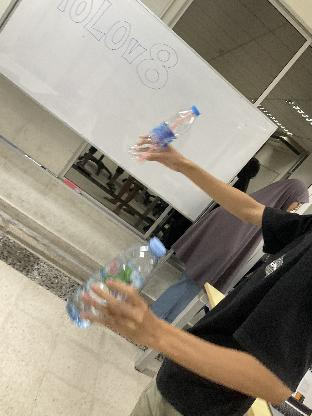Plastic Bottle: (67, 236, 167, 330), (130, 105, 198, 163)
